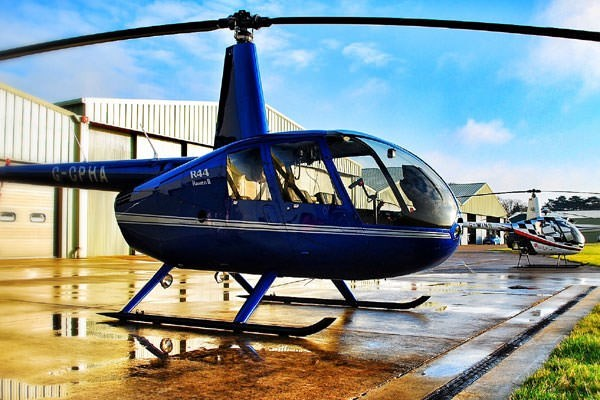Helicopter: (18, 17, 460, 327), (481, 183, 600, 266)
